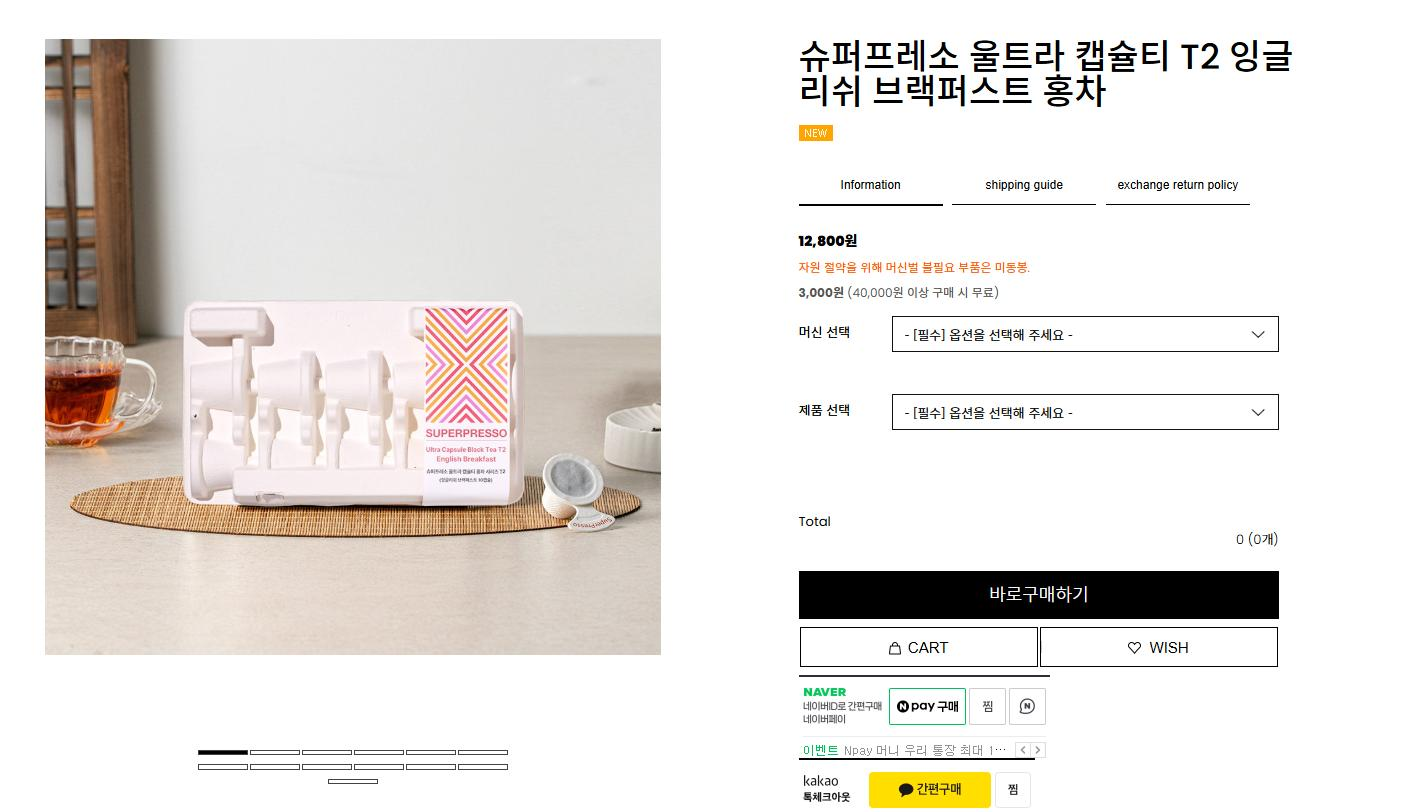button: (801, 572, 1280, 617), (1038, 629, 1277, 670), (801, 626, 1034, 661), (952, 164, 1092, 206), (802, 160, 938, 203), (1110, 167, 1241, 204), (870, 772, 992, 810), (882, 690, 969, 726), (1001, 774, 1036, 807), (1013, 687, 1040, 717), (972, 692, 998, 718), (1018, 742, 1043, 754)
checkbox: (888, 317, 1280, 354), (889, 393, 1291, 428)
